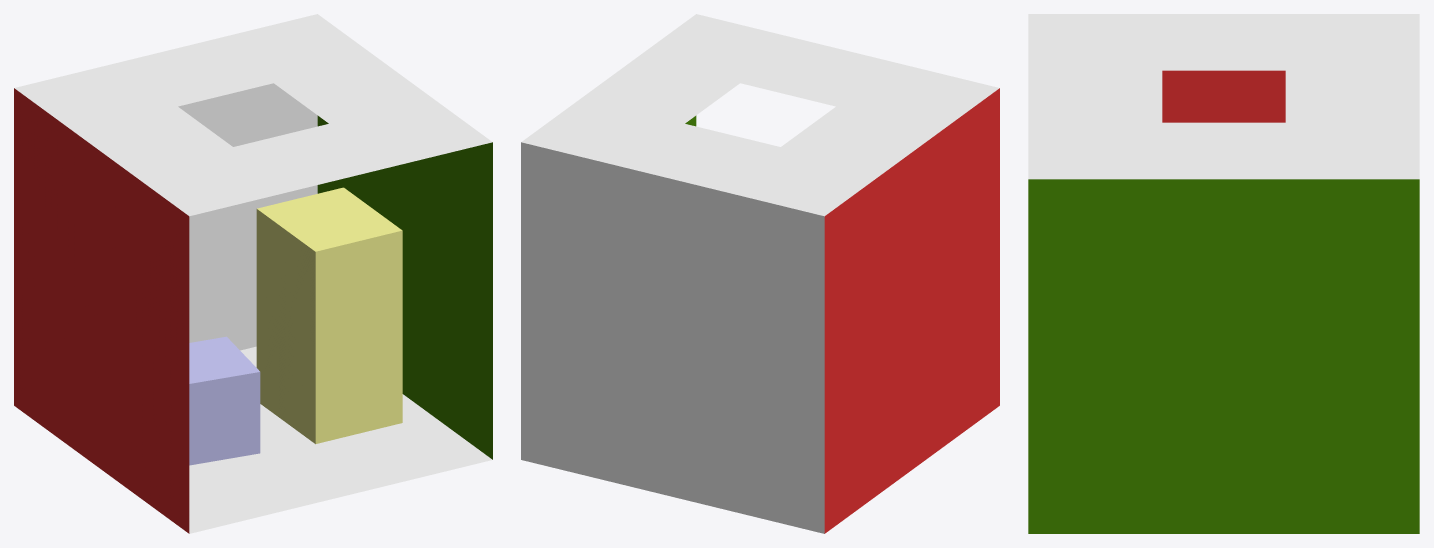
3 renders of one model, left to right at view 1: azimuth 30°, elevation 25°; view 2: azimuth 150°, elevation 25°; view 3: azimuth 270°, elevation 25°, orthographic. The views are drawn at different scales.
Visible parts, largest first — view 1: Square, Model; view 2: Square; view 3: Square.
Boxes of the visible parts, left/top/right/bottom form: Square: left=14, top=14, right=492, bottom=533; Model: left=189, top=187, right=402, bottom=465; Square: left=521, top=14, right=999, bottom=533; Square: left=1028, top=14, right=1419, bottom=533.
Size of the model in its own units: 15595 by 15595 by 15595.
